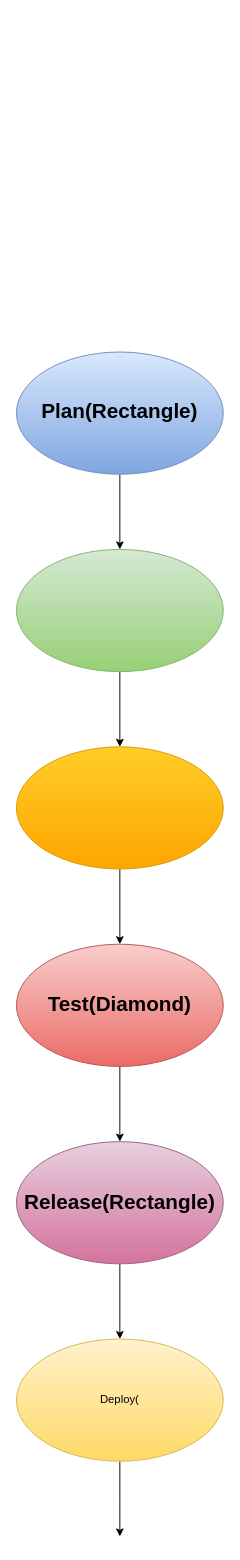
Some shapes in this 240 by 1560 pixel diagram are drawn without their labels. Here are the shapes that lost their labels. From the top down, the centre of each, then its label:
At point 119,610: "Develop(Folder)".
At point 119,807: "Build(Gear)".
